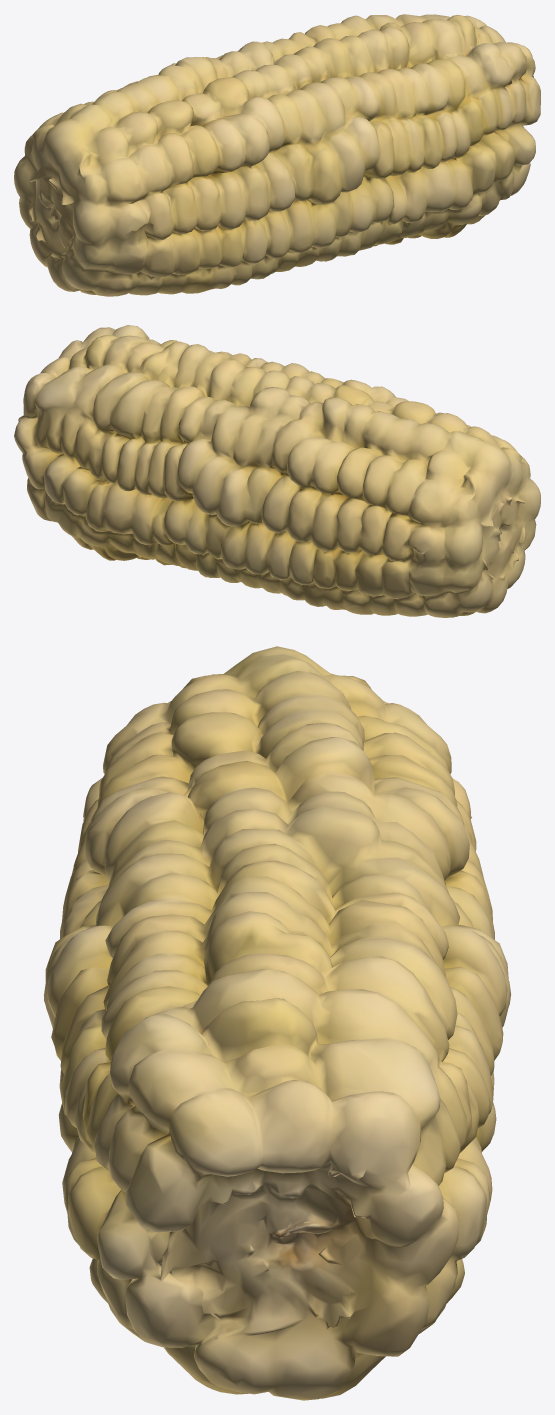
The model's file is ChocloModel.glb.
The picture shows the model from 3 angles, top to bottom: view 1: azimuth 30°, elevation 25°; view 2: azimuth 150°, elevation 25°; view 3: azimuth 270°, elevation 25°; orthographic projection. The views are drawn at different scales.
Parts seen in each view (by area): view 1: tripo_node_8a18314d-6971-4d17-a4c8-93e5891ef62f; view 2: tripo_node_8a18314d-6971-4d17-a4c8-93e5891ef62f; view 3: tripo_node_8a18314d-6971-4d17-a4c8-93e5891ef62f.
Part boxes in pixels (x1,y1,x2,y2): tripo_node_8a18314d-6971-4d17-a4c8-93e5891ef62f: (14, 14, 540, 296); tripo_node_8a18314d-6971-4d17-a4c8-93e5891ef62f: (14, 325, 540, 617); tripo_node_8a18314d-6971-4d17-a4c8-93e5891ef62f: (43, 646, 511, 1400).
Size of the model in its own units: 0.9808 by 0.432 by 0.4249.
1 material, 1 textured.
